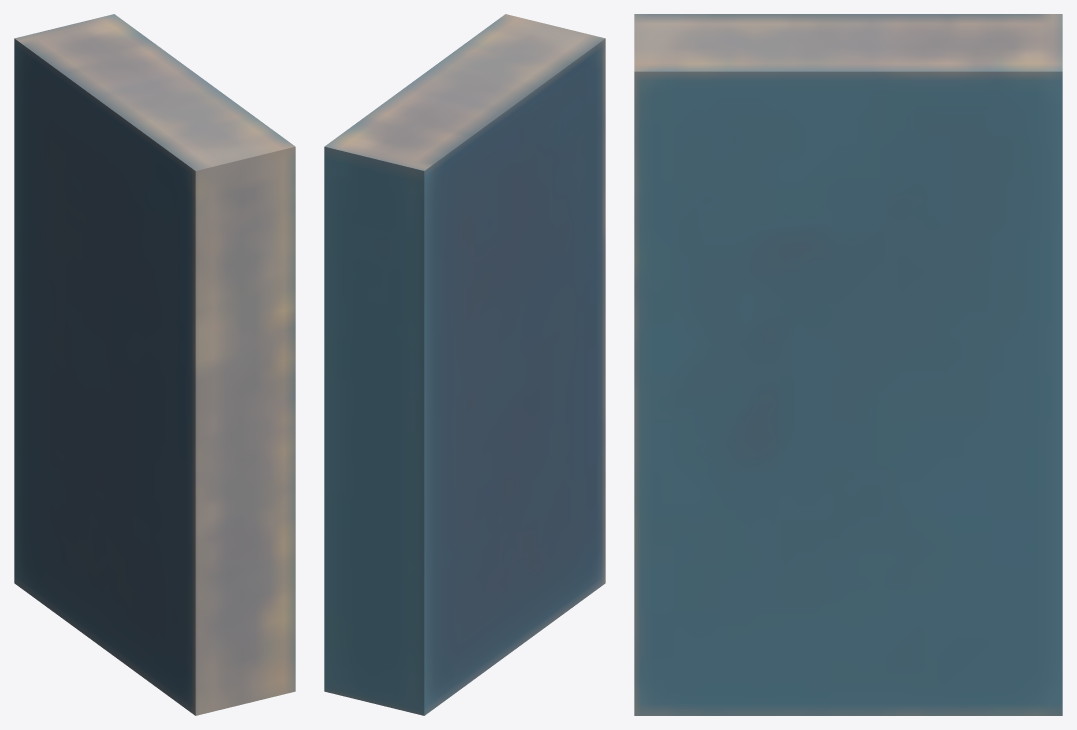
The model's file is Pfb_Indoors_Books__12.fbx.
3 renders of one model, left to right at view 1: azimuth 30°, elevation 25°; view 2: azimuth 150°, elevation 25°; view 3: azimuth 270°, elevation 25°, orthographic. The views are drawn at different scales.
Parts seen in each view (by area): view 1: Mat_Indoors_Books_01_3; view 2: Mat_Indoors_Books_01_3; view 3: Mat_Indoors_Books_01_3.
Part boxes in pixels (box(x1,y1,x2,y2)): Mat_Indoors_Books_01_3: box(14, 14, 295, 715); Mat_Indoors_Books_01_3: box(324, 14, 605, 715); Mat_Indoors_Books_01_3: box(634, 14, 1062, 715).
Size of the model in its own units: 0.0639 by 0.3326 by 0.2005.
1 material, 1 textured.
